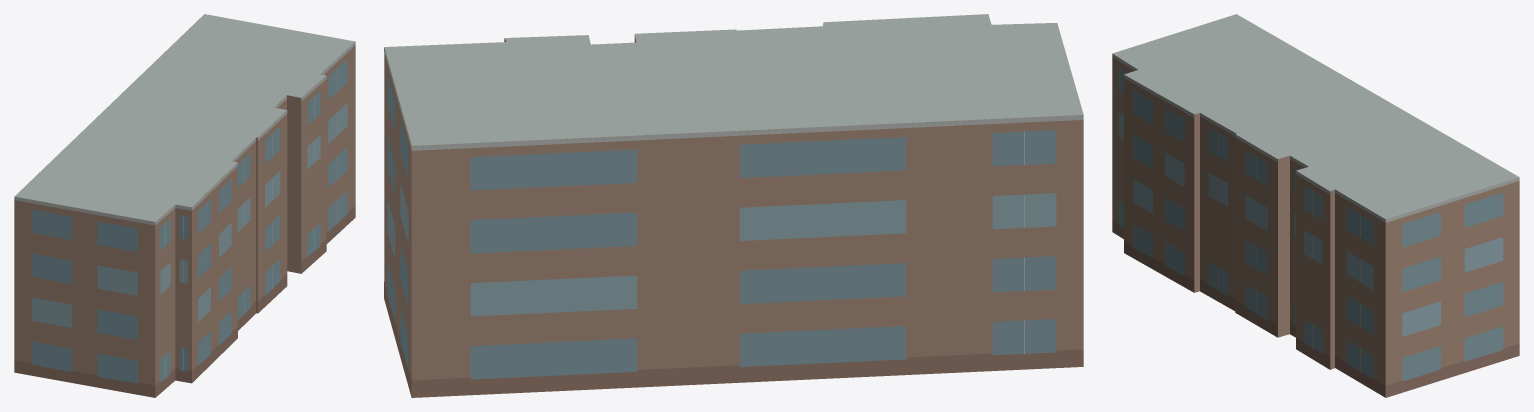
Rendered from survey-upis-32887915.glb.
The picture shows the model from 3 angles, left to right: view 1: azimuth 30°, elevation 25°; view 2: azimuth 150°, elevation 25°; view 3: azimuth 270°, elevation 25°; orthographic projection. The views are drawn at different scales.
Visible parts, largest first — view 1: survey-upis-32887915.tmp; view 2: survey-upis-32887915.tmp; view 3: survey-upis-32887915.tmp.
Boxes of the visible parts, left/top/right/bottom form: survey-upis-32887915.tmp: left=14, top=14, right=355, bottom=397; survey-upis-32887915.tmp: left=384, top=14, right=1083, bottom=397; survey-upis-32887915.tmp: left=1112, top=14, right=1519, bottom=397.
Bounding box in the file's own units: 30.36 × 12.3 × 25.45.
